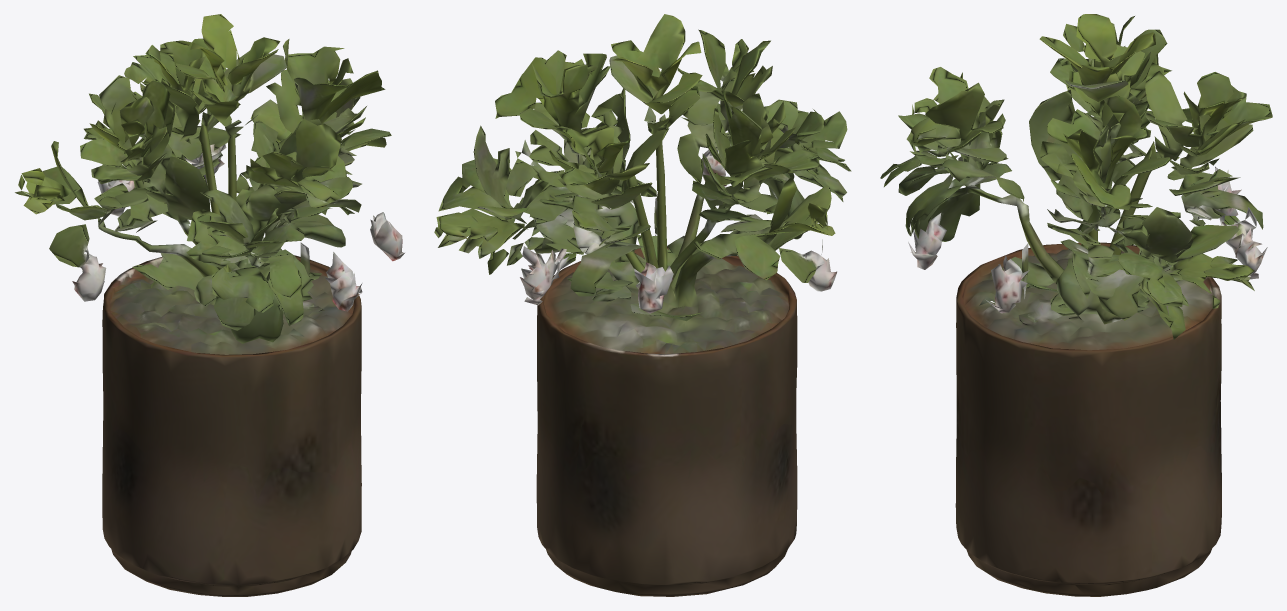
The model's file is pot_bunga.glb.
3 renders of one model, left to right at view 1: azimuth 30°, elevation 25°; view 2: azimuth 150°, elevation 25°; view 3: azimuth 270°, elevation 25°, orthographic.
Parts seen in each view (by area): view 1: tripo_node_5b303b63-afc7-4ea8-a622-2047d402ca53; view 2: tripo_node_5b303b63-afc7-4ea8-a622-2047d402ca53; view 3: tripo_node_5b303b63-afc7-4ea8-a622-2047d402ca53.
Boxes of the visible parts, bbox=[...] form: tripo_node_5b303b63-afc7-4ea8-a622-2047d402ca53: bbox=[15, 14, 404, 596]; tripo_node_5b303b63-afc7-4ea8-a622-2047d402ca53: bbox=[434, 14, 851, 596]; tripo_node_5b303b63-afc7-4ea8-a622-2047d402ca53: bbox=[880, 14, 1272, 596].
Bounding box in the file's own units: 0.7682 × 0.9994 × 0.6802.
Materials: 1 (1 with a texture image).
